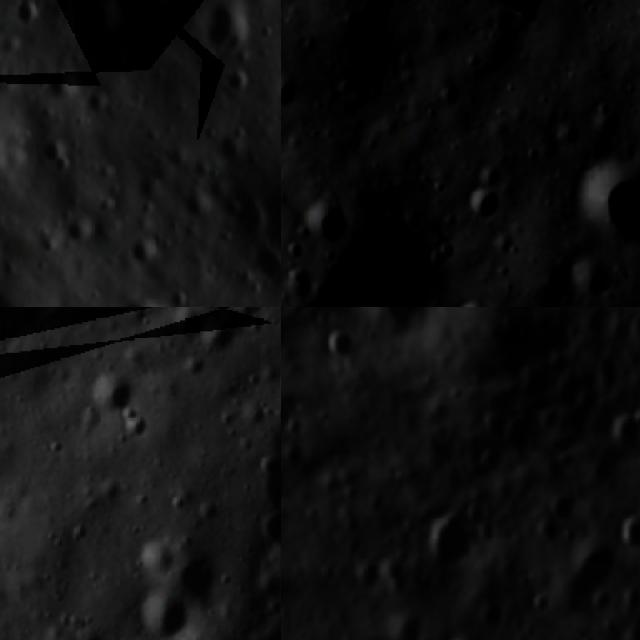crater: (291, 255, 431, 307), (544, 530, 616, 622), (572, 157, 640, 251), (413, 501, 482, 573), (60, 0, 139, 59), (331, 307, 434, 346), (201, 0, 261, 65), (164, 549, 218, 606), (77, 369, 136, 420), (300, 194, 357, 246), (532, 477, 584, 532), (133, 591, 184, 640), (595, 404, 640, 457), (567, 263, 611, 307), (607, 499, 640, 554), (588, 102, 629, 146), (316, 324, 350, 371), (464, 187, 505, 224), (373, 609, 420, 640), (548, 118, 584, 156), (429, 234, 462, 274), (508, 0, 548, 28), (458, 293, 503, 307), (281, 76, 297, 113)
